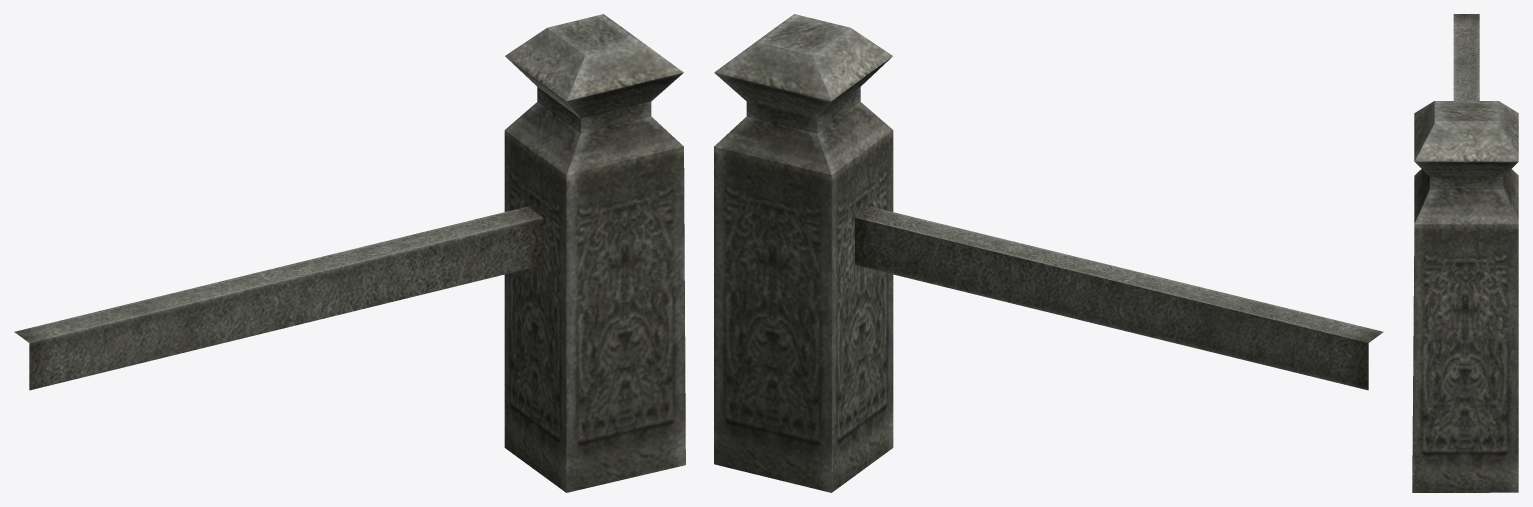
File: stadium_02_03.glb
The picture shows the model from 3 angles, left to right: view 1: azimuth 30°, elevation 25°; view 2: azimuth 150°, elevation 25°; view 3: azimuth 270°, elevation 25°; orthographic projection. The views are drawn at different scales.
Parts seen in each view (by area): view 1: stadium_02_03; view 2: stadium_02_03; view 3: stadium_02_03.
Boxes of the visible parts, x1,y1,x2,y2 form: stadium_02_03: (14,14,685,492); stadium_02_03: (714,14,1383,492); stadium_02_03: (1412,14,1518,492).
Bounding box in the file's own units: 5.65 × 3.6 × 0.9769.
Materials: 1 (1 with a texture image).
